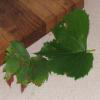grape leaf black rot: (36, 8, 95, 82), (0, 42, 49, 96)
